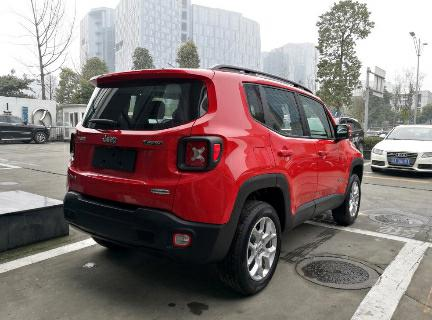Jeep-自由侠: (52, 60, 373, 293)
